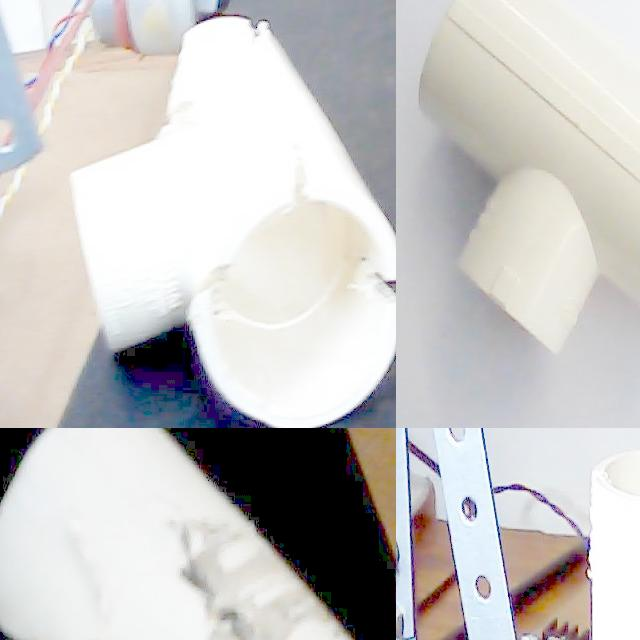Defective: (144, 492, 343, 640), (580, 442, 640, 640), (249, 140, 333, 244), (143, 38, 219, 150), (171, 252, 265, 334), (26, 591, 126, 640), (221, 8, 285, 80), (357, 237, 396, 320)
T Joint: (69, 17, 396, 428), (417, 0, 640, 354), (0, 428, 355, 640)
